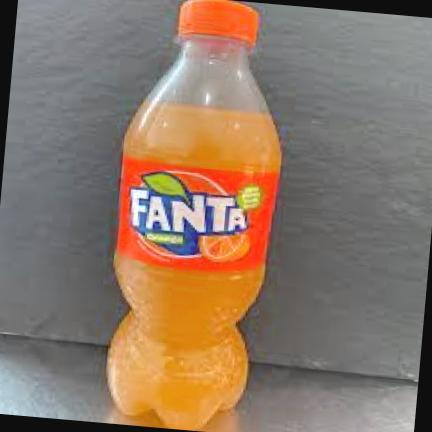container: (107, 1, 277, 429)
fluid: (108, 102, 278, 429), (108, 222, 266, 427)
fluid-surface: (141, 100, 271, 120)
